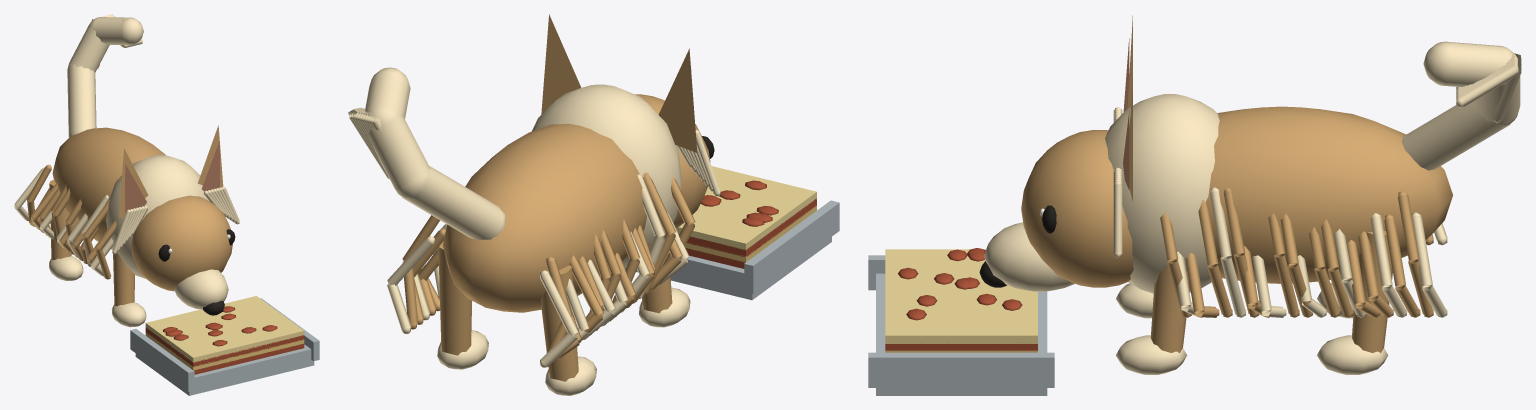
File: chihuahua_lasagne.glb
The picture shows the model from 3 angles, left to right: view 1: azimuth 30°, elevation 25°; view 2: azimuth 150°, elevation 25°; view 3: azimuth 270°, elevation 25°; orthographic projection. The views are drawn at different scales.
Parts seen in each view (by area): view 1: LangharigeChihuahua, Lasagneschotel; view 2: LangharigeChihuahua, Lasagneschotel; view 3: LangharigeChihuahua, Lasagneschotel.
Part boxes in pixels (x1=…): LangharigeChihuahua: x1=14, y1=14, x2=239, y2=327; Lasagneschotel: x1=130, y1=296, x2=319, y2=395; LangharigeChihuahua: x1=348, y1=14, x2=720, y2=395; Lasagneschotel: x1=625, y1=166, x2=839, y2=300; LangharigeChihuahua: x1=979, y1=15, x2=1521, y2=374; Lasagneschotel: x1=868, y1=248, x2=1054, y2=395.
Size of the model in its own units: 0.3459 by 0.515 by 0.8767.
